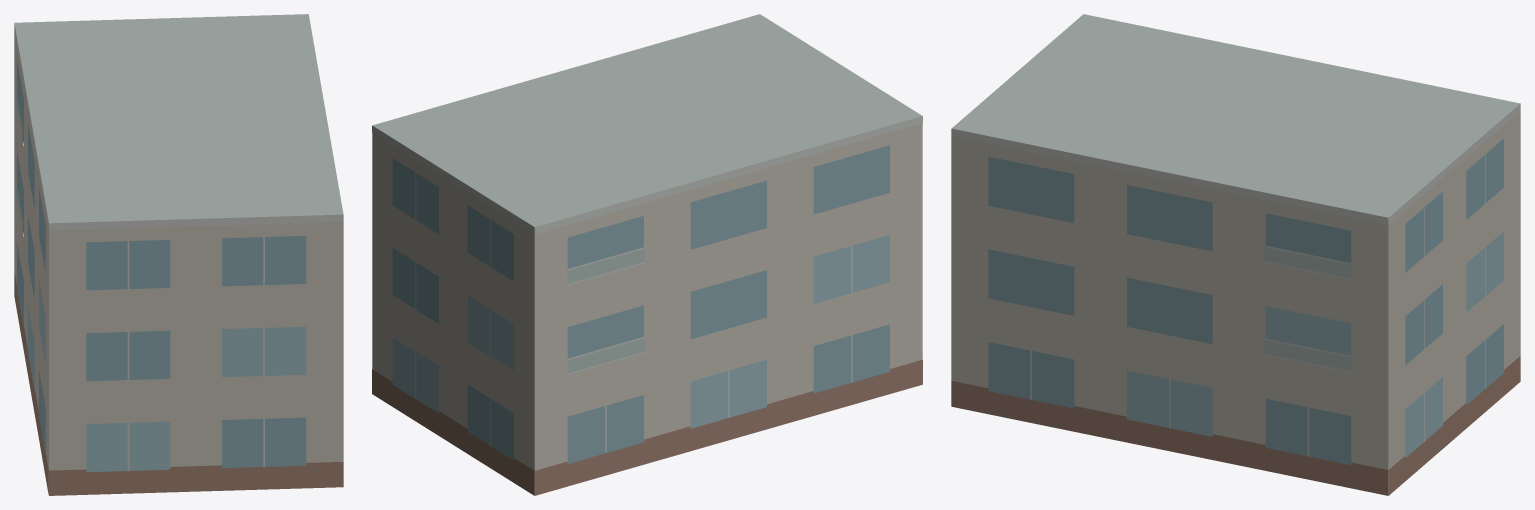
File: survey-upis-32705013.glb
3 views of the same model, side by side, from view 1: azimuth 30°, elevation 25°; view 2: azimuth 150°, elevation 25°; view 3: azimuth 270°, elevation 25° (orthographic). The views are drawn at different scales.
Parts seen in each view (by area): view 1: survey-upis-32705013.tmp; view 2: survey-upis-32705013.tmp; view 3: survey-upis-32705013.tmp.
Boxes of the visible parts, bbox=[...] form: survey-upis-32705013.tmp: bbox=[14, 14, 343, 495]; survey-upis-32705013.tmp: bbox=[372, 14, 922, 495]; survey-upis-32705013.tmp: bbox=[951, 14, 1520, 495].
Bounding box in the file's own units: 14.39 × 9.15 × 16.98.
